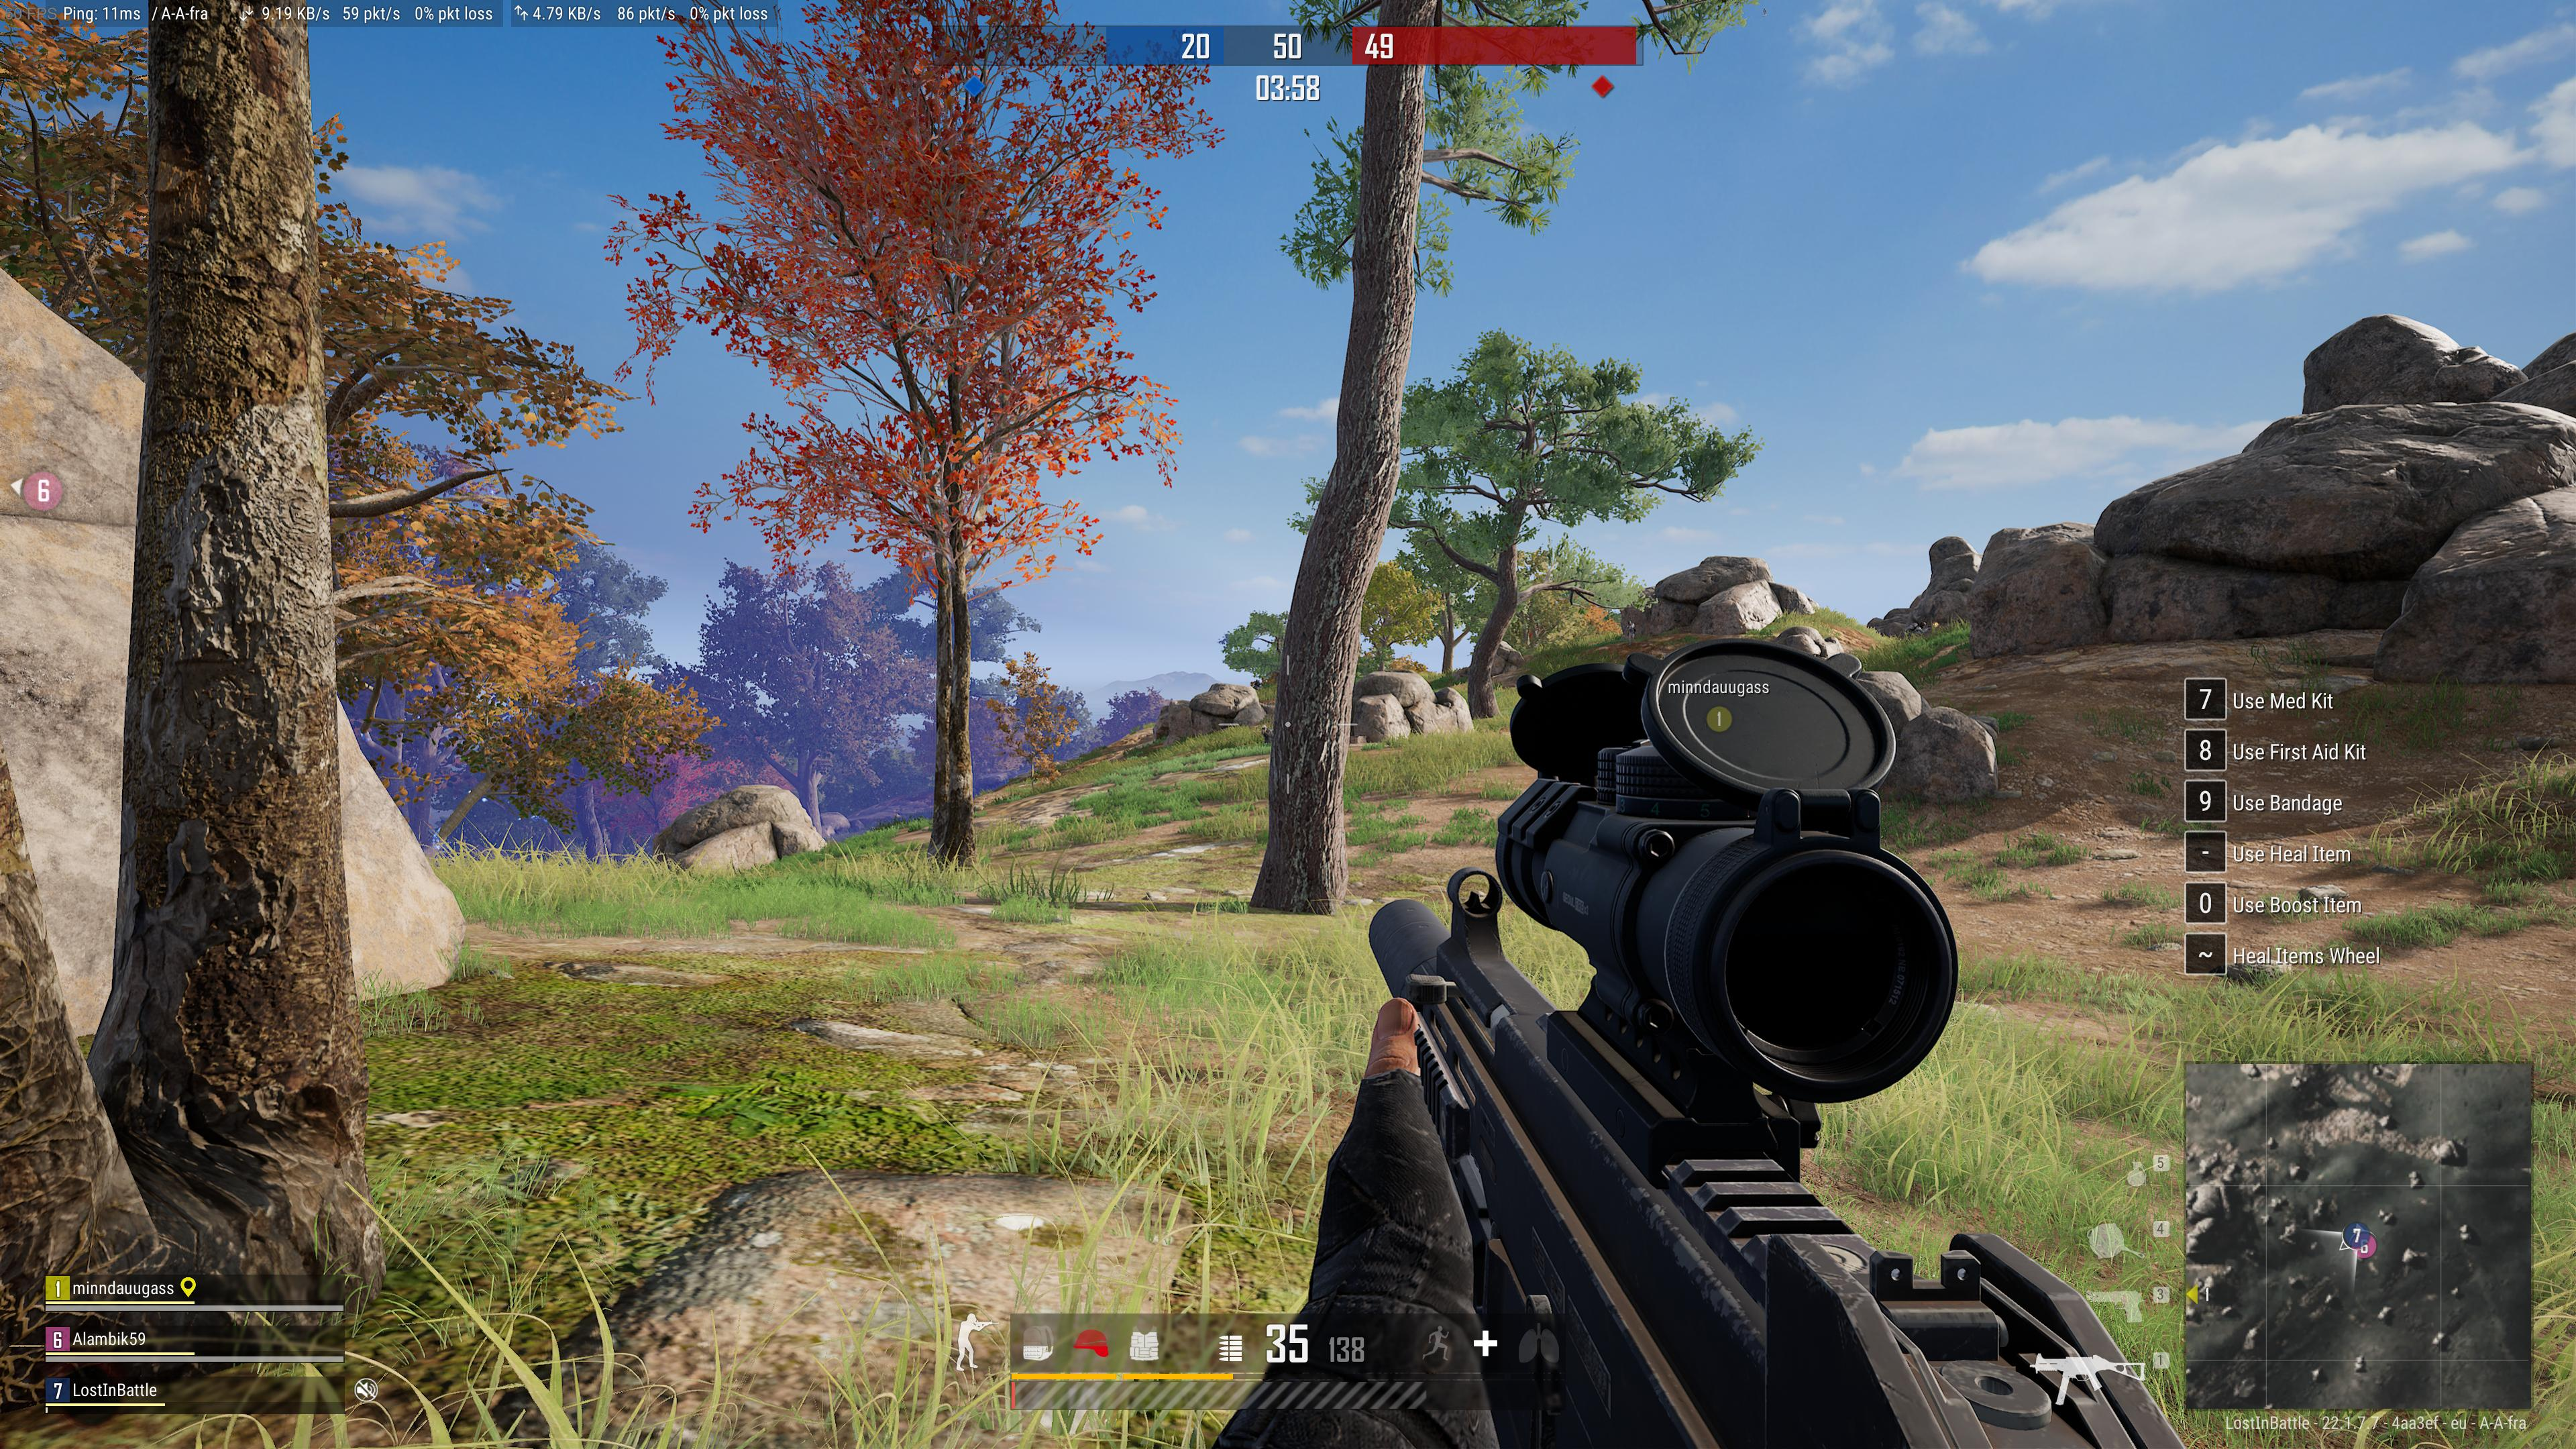enemy: (1904, 619, 1932, 642), (1624, 619, 1637, 646), (1260, 724, 1272, 743)
enemy_head: (1918, 619, 1927, 628), (1260, 724, 1267, 732), (1626, 619, 1631, 625)
